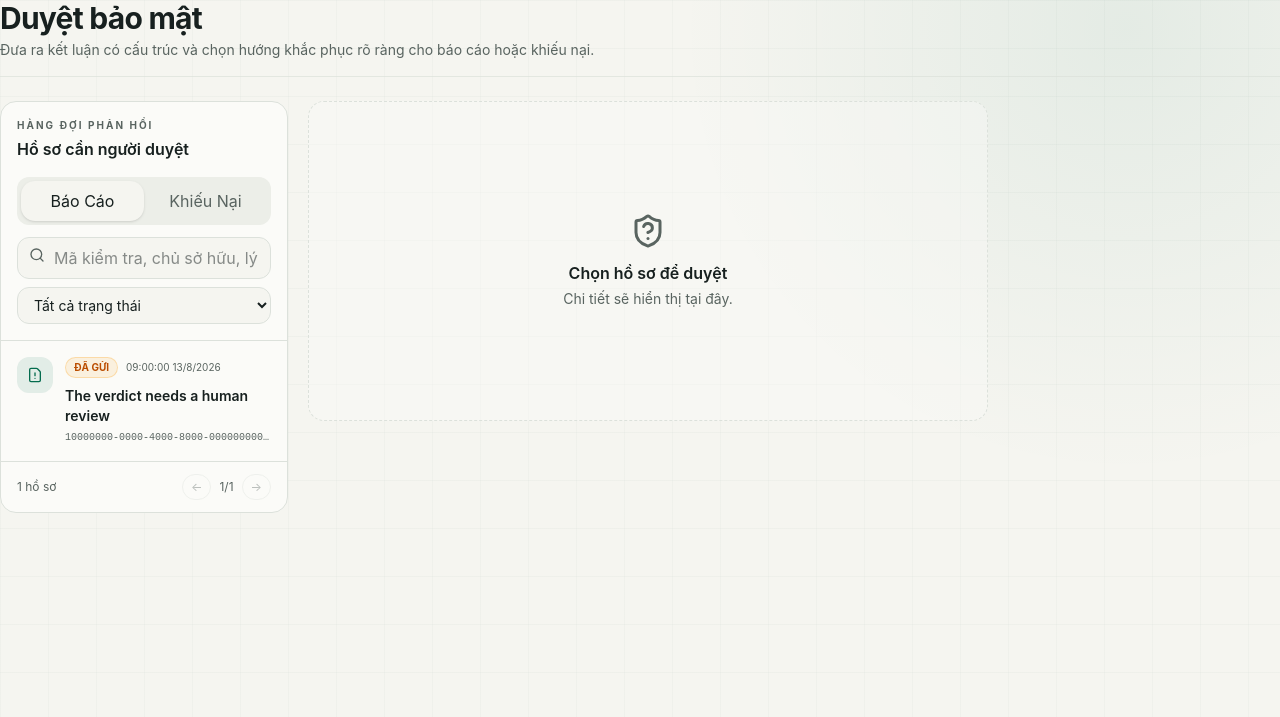
Test: FE7 Security Review Room › shows a non-executing grounded copilot suggestion without filling the HITL note
Click the button "The verdict needs a human review" at [144, 401], box [1,341,287,461]
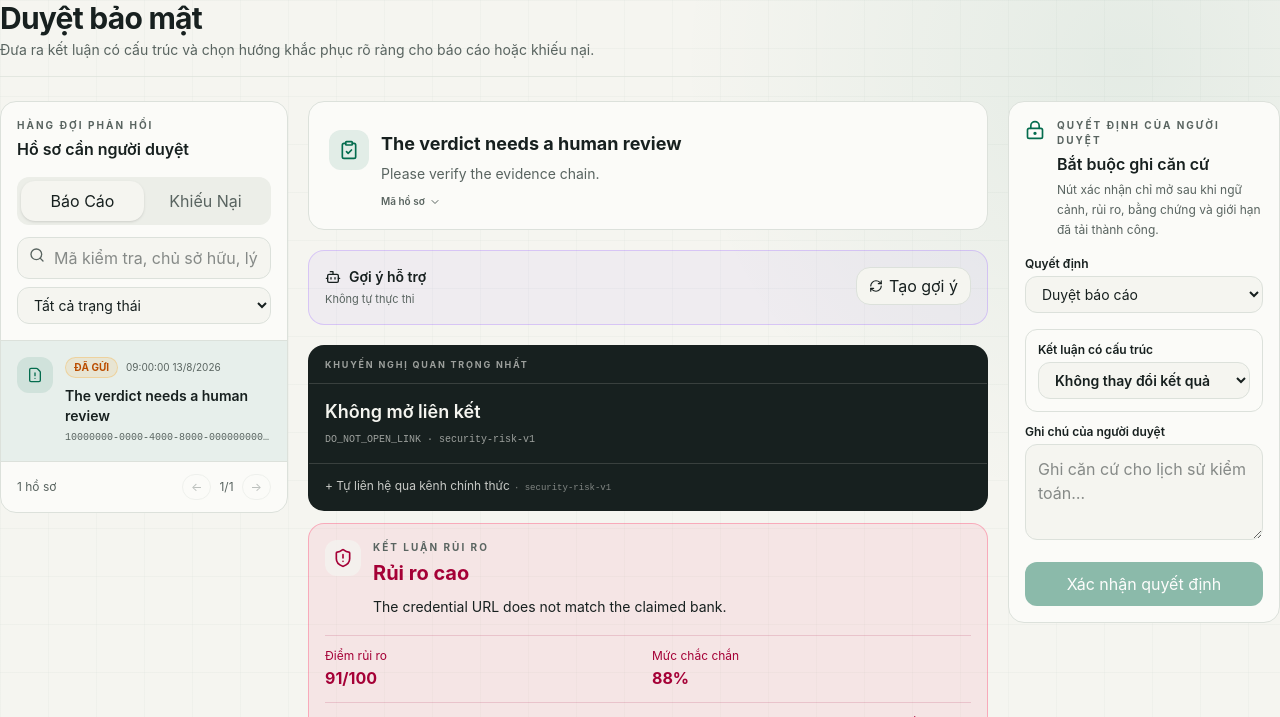
Click the button "Tạo gợi ý" at [914, 286], box [856,267,971,305]
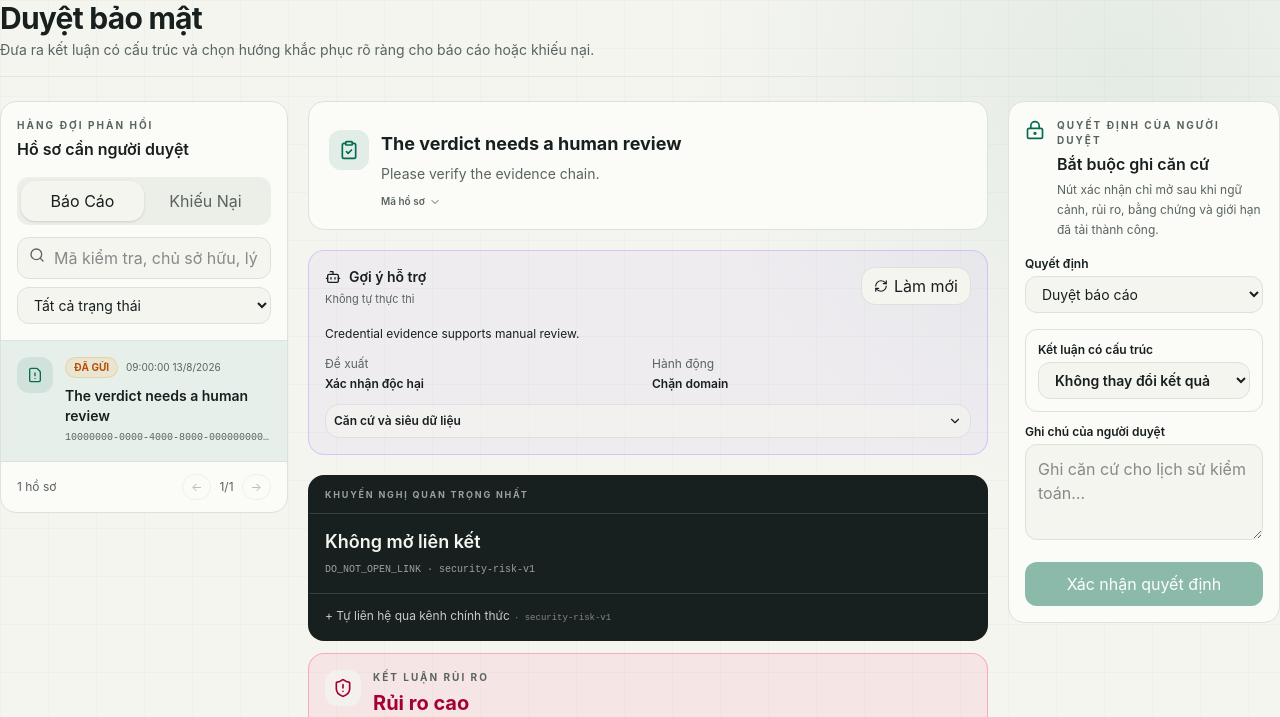
Result: the element named "Gợi ý AI — không tự thực thi" shows "Không tự thực thi" at [325,292,414,306]
Result: the text box labelled "Ghi chú của người duyệt" is empty at [1025,444,1263,540]
Result: the text "Credential evidence supports manual review." is shown at [325,326,579,340]
